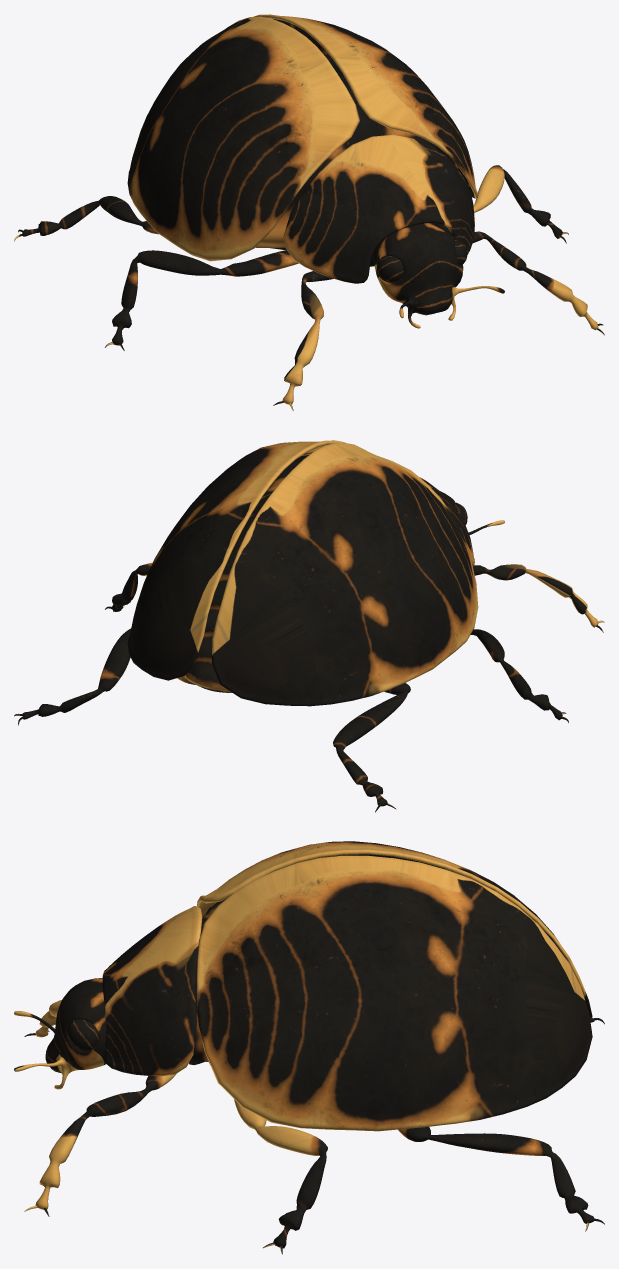
Rendered from LADYBUG_export.fbx.
3 renders of one model, top to bottom at view 1: azimuth 30°, elevation 25°; view 2: azimuth 150°, elevation 25°; view 3: azimuth 270°, elevation 25°, orthographic. The views are drawn at different scales.
Visible parts, largest first — view 1: SHIELD_2_low.002, BODY_low.001, BODY_low.002, SHIELD_2_low.001; view 2: SHIELD_2_low.002, SHIELD_2_low.001, BODY_low.001, WINGS_low.002, BODY_low.002; view 3: SHIELD_2_low.001, BODY_low.001, BODY_low.002, SHIELD_2_low.002.
Boxes of the visible parts, <box> form: SHIELD_2_low.002: <box>127,16,359,261</box>; BODY_low.001: <box>14,72,604,411</box>; BODY_low.002: <box>283,134,474,283</box>; SHIELD_2_low.001: <box>253,14,478,198</box>; SHIELD_2_low.002: <box>212,443,478,706</box>; SHIELD_2_low.001: <box>127,440,345,680</box>; BODY_low.001: <box>14,491,604,812</box>; WINGS_low.002: <box>197,447,320,658</box>; BODY_low.002: <box>419,477,474,566</box>; SHIELD_2_low.001: <box>197,855,592,1131</box>; BODY_low.001: <box>14,898,604,1254</box>; BODY_low.002: <box>102,906,202,1076</box>; SHIELD_2_low.002: <box>197,841,592,1017</box>.
Bounding box in the file's own units: 79.1 × 38.43 × 75.78.
Materials: 1 (1 with a texture image).
